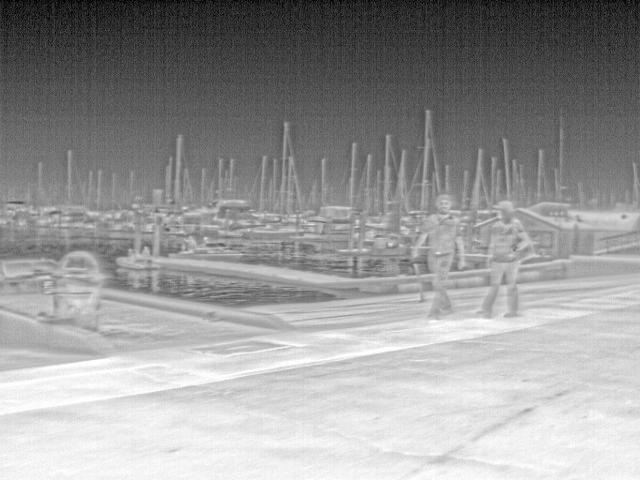person: (412, 191, 467, 322), (477, 199, 538, 317)
